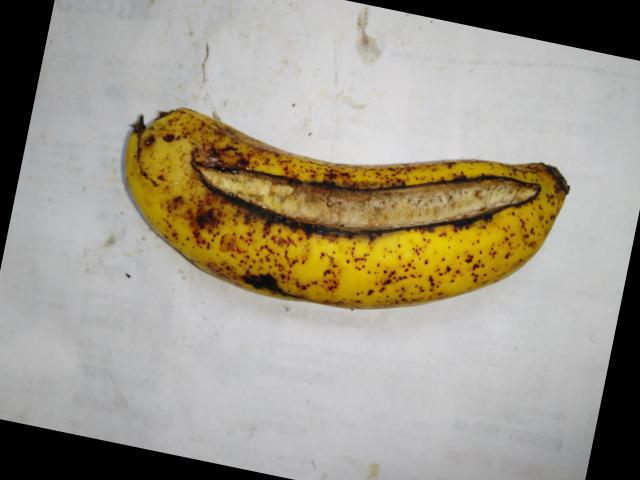ripe: (94, 88, 595, 315)
rotten: (192, 150, 554, 245)
